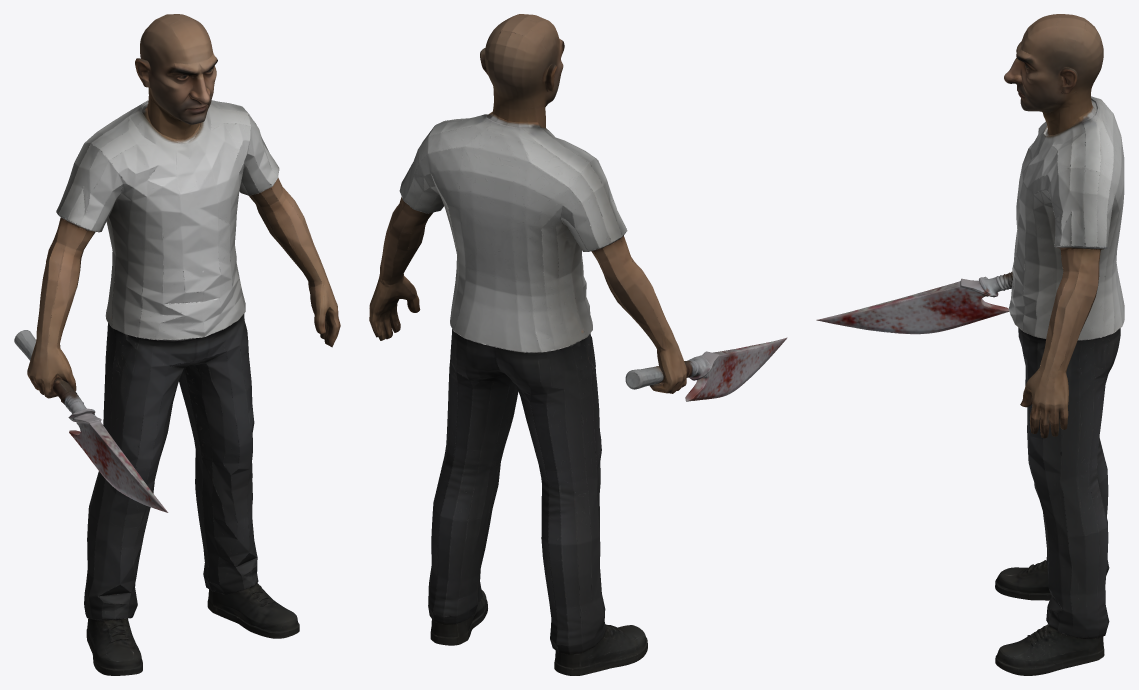
File: grunt_grrom.glb
The picture shows the model from 3 angles, left to right: view 1: azimuth 30°, elevation 25°; view 2: azimuth 150°, elevation 25°; view 3: azimuth 270°, elevation 25°; orthographic projection. The views are drawn at different scales.
Parts seen in each view (by area): view 1: node_0; view 2: node_0; view 3: node_0.
Boxes of the visible parts, x1,y1,x2,y2 form: node_0: [14, 14, 340, 675]; node_0: [369, 14, 787, 675]; node_0: [816, 14, 1124, 675].
Bounding box in the file's own units: 0.571 × 1.11 × 0.5058.
Materials: 1 (1 with a texture image).
